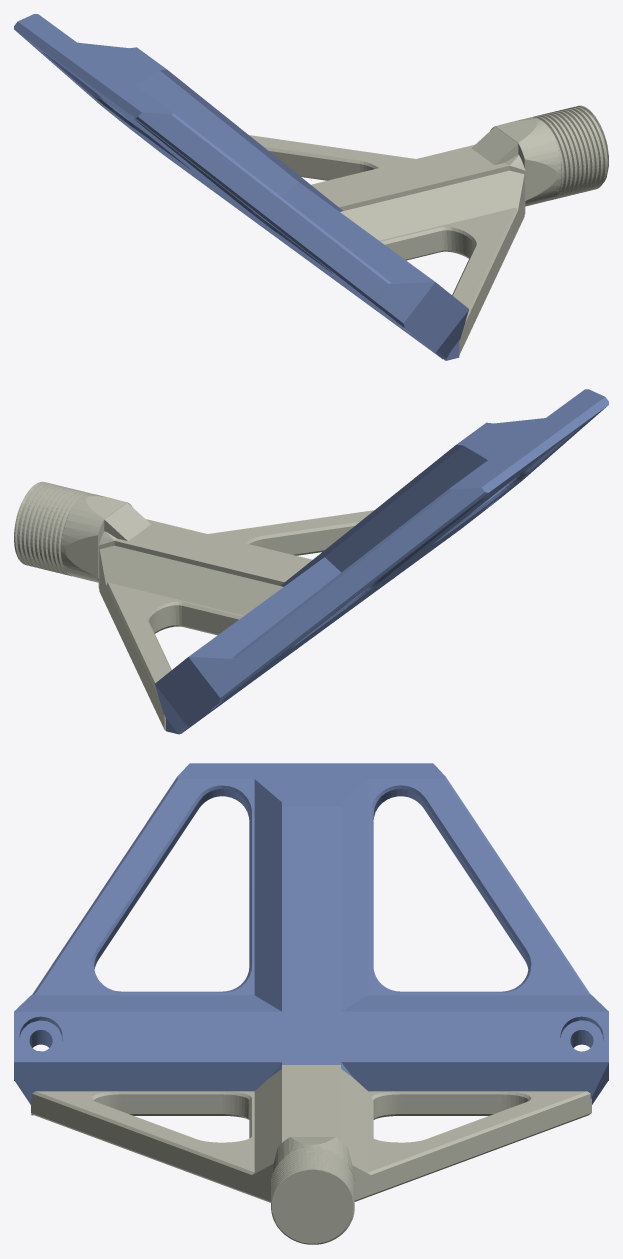
The model's file is vesa-mic-mount.glb.
3 views of the same model, one above another, from view 1: azimuth 30°, elevation 25°; view 2: azimuth 150°, elevation 25°; view 3: azimuth 270°, elevation 25° (orthographic). The views are drawn at different scales.
Visible parts, largest first — view 1: Mesh_Mesh_head_geo.001_lambert2SG.001; view 2: Mesh_Mesh_head_geo.001_lambert2SG.001; view 3: Mesh_Mesh_head_geo.001_lambert2SG.001.
Boxes of the visible parts, bbox=[...] form: Mesh_Mesh_head_geo.001_lambert2SG.001: bbox=[14, 14, 608, 360]; Mesh_Mesh_head_geo.001_lambert2SG.001: bbox=[14, 389, 608, 734]; Mesh_Mesh_head_geo.001_lambert2SG.001: bbox=[14, 763, 608, 1244].
Size of the model in its own units: 0.1076 by 0.0488 by 0.11.
